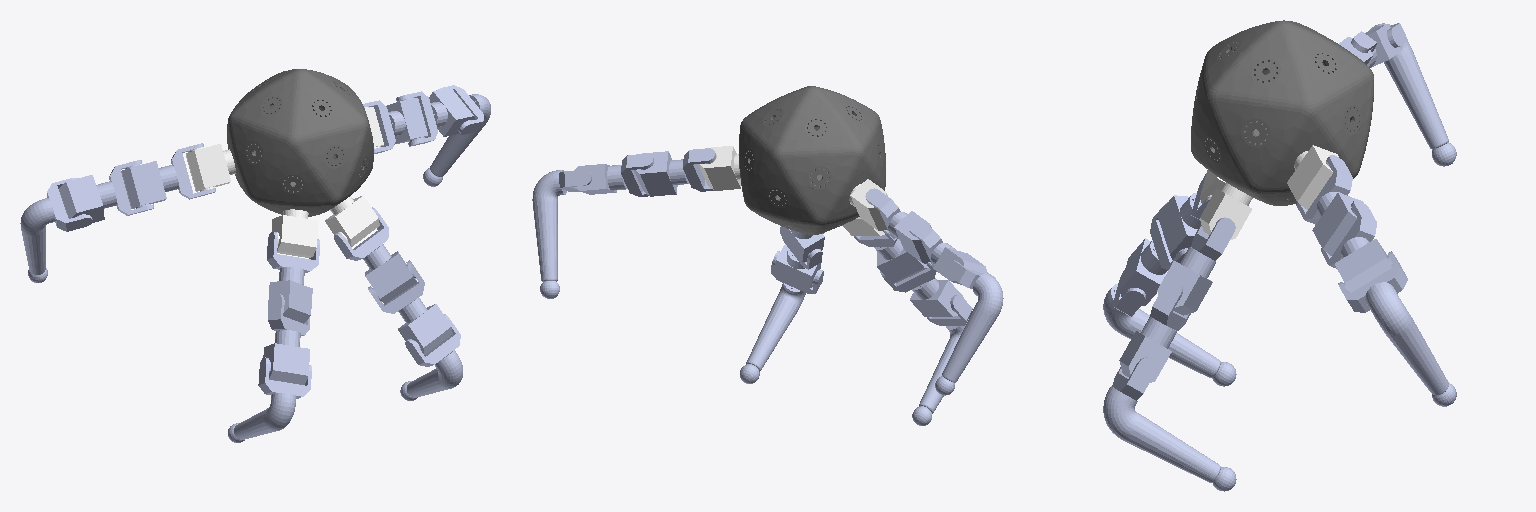
robot.urdf — mod_test:
<?xml version="1.0" encoding="utf-8"?>
<robot
  name="mod_test">
  <link
    name="base_link">
    <inertial>
      <origin
        xyz="-1.5226495220944E-06 1.5812928362389E-07 -5.05247252856584E-07"
        rpy="0 0 0" />
      <mass
        value="0.422806992949252" />
      <inertia
        ixx="0.00237499139253511"
        ixy="1.5717831530364E-08"
        ixz="1.49286265366169E-08"
        iyy="0.00237502154661776"
        iyz="-2.02154172619351E-08"
        izz="0.00237502595466009" />
    </inertial>
    <visual>
      <origin
        xyz="0 0 0"
        rpy="0 0 0" />
      <geometry>
        <mesh
          filename="package://meshes/base_link.STL" />
      </geometry>
      <material
        name="">
        <color
          rgba="0.498039215686275 0.498039215686275 0.498039215686275 1" />
      </material>
    </visual>
    <collision>
      <origin
        xyz="0 0 0"
        rpy="0 0 0" />
      <geometry>
        <mesh
          filename="package://meshes/base_link.STL" />
      </geometry>
    </collision>
  </link>
  <link
   name="150">
   <inertial>
      <origin
        xyz="0 0 0.028508"
        rpy="0 0 0" />
      <mass
        value="0.076173" />
      <inertia
        ixx="3.054E-05"
        ixy="-0.000000"
        ixz="0.000000"
        iyy="2.1077E-05"
        iyz="-0.000000"
        izz="2.1165E-05" />
    </inertial>
    <visual>
      <origin
        xyz="0 0 0"
        rpy="0 0 0" />
      <geometry>
        <mesh
          filename="package://meshes/1.STL" />
      </geometry>
      <material
        name="">
        <color
          rgba="1 1 1 1" />
      </material>
    </visual>
    <collision>
      <origin
        xyz="0 0 0"
        rpy="0 0 0" />
      <geometry>
        <mesh
          filename="package://meshes/1.STL" />
      </geometry>
    </collision>
  </link>
  <joint
    name="body_150"
    type="fixed">
    <origin
        xyz="0.031905 -0.043913 -0.071046"
        rpy="2.776697 0.553612 1.570780" />
    <parent
      link="base_link" />
    <child
      link="150" />
    <axis
      xyz="0 0 0" />
  </joint>
  <link
    name="151">
    <inertial>
      <origin
        xyz="0.060018 -1.4108E-06 1.4108E-06"
        rpy="0 0 0" />
    <mass
        value="0.10689" />
      <inertia
        ixx="3.2684e-05"
        ixy="-2.5662e-09"
        ixz="2.5662e-09"
        iyy="9.1229e-05"
        iyz="4.0975e-06"
        izz="7.7485e-05" />
    </inertial>
    <visual>
      <origin
        xyz="0 0 0"
        rpy="0 0 0" />
      <geometry>
        <mesh
          filename="package://meshes/module1.STL" />
      </geometry>
      <material
        name="">
        <color
          rgba="0.79216 0.81961 0.93333 1" />
      </material>
    </visual>
    <collision>
      <origin
        xyz="0 0 0"
        rpy="0 0 0" />
      <geometry>
        <mesh
          filename="package://meshes/module1.STL" />
      </geometry>
    </collision>
  </link>
  <joint
    name="150_151"
    type="revolute">
    <origin
      xyz="0 0 0.04"
      rpy="-1.558 -1.5708 -0.012835" />
    <parent
      link="150" />
    <child
      link="151" />
    <axis
      xyz="0 0 1" />
    <limit
      lower="-6.28"
      upper="6.28"
      effort="10"
      velocity="100" />
  </joint>
  <link
    name="152">
    <inertial>
      <origin
        xyz="0.060018 -1.4108E-06 1.4108E-06"
        rpy="0 0 0" />
    <mass
        value="0.10689" />
      <inertia
        ixx="3.2684e-05"
        ixy="-2.5662e-09"
        ixz="2.5662e-09"
        iyy="9.1229e-05"
        iyz="-4.0975e-06"
        izz="7.7485e-05" />
    </inertial>
    <visual>
      <origin
        xyz="0 0 0"
        rpy="0 0 0" />
      <geometry>
        <mesh
          filename="package://meshes/module5.STL" />
      </geometry>
      <material
        name="">
        <color
          rgba="0.79216 0.81961 0.93333 1" />
      </material>
    </visual>
    <collision>
      <origin
        xyz="0 0 0"
        rpy="0 0 0" />
      <geometry>
        <mesh
          filename="package://meshes/module5.STL" />
      </geometry>
    </collision>
  </link>
  <joint
    name="151_152"
    type="revolute">
    <origin
      xyz="0.0816 0 0"
      rpy="0.523599 0 0" />
    <parent
      link="151" />
    <child
      link="152" />
    <axis
      xyz="0 0 1" />
    <limit
      lower="-6.28"
      upper="6.28"
      effort="10"
      velocity="100" />
  </joint>
  <link
    name="153">
    <inertial>
      <origin
        xyz="0.051733 -0.042281 -1.3878E-17"
        rpy="0 0 0" />
    <mass
        value="0.12059" />
      <inertia
        ixx="0.00025425"
        ixy="4.8319E-05"
        ixz="0"
        iyy="5.0194E-05"
        iyz="-3.3141E-21"
        izz="0.00027482" />
    </inertial>
    <visual>
      <origin
        xyz="0 0 0"
        rpy="0 0 0" />
      <geometry>
        <mesh
          filename="package://meshes/leg.STL" />
      </geometry>
      <material
        name="">
        <color
          rgba="0.79216 0.81961 0.93333 1" />
      </material>
    </visual>
    <collision>
      <origin
        xyz="0 0 0"
        rpy="0 0 0" />
      <geometry>
        <mesh
          filename="package://meshes/leg.STL" />
      </geometry>
    </collision>
  </link>
  <joint
    name="152_153"
    type="revolute">
    <origin
      xyz="0.0816 0 0"
      rpy="2.617994 0 0" />
    <parent
      link="152" />
    <child
      link="153" />
    <axis
      xyz="0 0 1" />
    <limit
      lower="-6.28"
      upper="6.28"
      effort="10"
      velocity="100" />
  </joint>
  <link
   name="110">
   <inertial>
      <origin
        xyz="0 0 0.028508"
        rpy="0 0 0" />
      <mass
        value="0.076173" />
      <inertia
        ixx="3.054E-05"
        ixy="0.000000"
        ixz="-0.000000"
        iyy="2.1077E-05"
        iyz="-0.000000"
        izz="2.1165E-05" />
    </inertial>
    <visual>
      <origin
        xyz="0 0 0"
        rpy="0 0 0" />
      <geometry>
        <mesh
          filename="package://meshes/1.STL" />
      </geometry>
      <material
        name="">
        <color
          rgba="1 1 1 1" />
      </material>
    </visual>
    <collision>
      <origin
        xyz="0 0 0"
        rpy="0 0 0" />
      <geometry>
        <mesh
          filename="package://meshes/1.STL" />
      </geometry>
    </collision>
  </link>
  <joint
    name="body_110"
    type="fixed">
    <origin
        xyz="0.083523 0.027138 -0.016769"
        rpy="-1.787804 -0.513383 -1.148774" />
    <parent
      link="base_link" />
    <child
      link="110" />
    <axis
      xyz="0 0 0" />
  </joint>
  <link
    name="111">
    <inertial>
      <origin
        xyz="0.060018 -1.4108E-06 1.4108E-06"
        rpy="0 0 0" />
    <mass
        value="0.10689" />
      <inertia
        ixx="3.2684e-05"
        ixy="-2.5662e-09"
        ixz="2.5662e-09"
        iyy="9.3595e-05"
        iyz="-2.1275e-13"
        izz="7.512e-05" />
    </inertial>
    <visual>
      <origin
        xyz="0 0 0"
        rpy="0 0 0" />
      <geometry>
        <mesh
          filename="package://meshes/module0.STL" />
      </geometry>
      <material
        name="">
        <color
          rgba="0.79216 0.81961 0.93333 1" />
      </material>
    </visual>
    <collision>
      <origin
        xyz="0 0 0"
        rpy="0 0 0" />
      <geometry>
        <mesh
          filename="package://meshes/module0.STL" />
      </geometry>
    </collision>
  </link>
  <joint
    name="110_111"
    type="revolute">
    <origin
      xyz="0 0 0.04"
      rpy="-1.558 -1.5708 -0.012835" />
    <parent
      link="110" />
    <child
      link="111" />
    <axis
      xyz="0 0 1" />
    <limit
      lower="-6.28"
      upper="6.28"
      effort="10"
      velocity="100" />
  </joint>
  <link
    name="112">
    <inertial>
      <origin
        xyz="0.060018 -1.4108E-06 1.4108E-06"
        rpy="0 0 0" />
    <mass
        value="0.10689" />
      <inertia
        ixx="3.2684e-05"
        ixy="-2.5662e-09"
        ixz="2.5662e-09"
        iyy="9.1229e-05"
        iyz="-4.0975e-06"
        izz="7.7485e-05" />
    </inertial>
    <visual>
      <origin
        xyz="0 0 0"
        rpy="0 0 0" />
      <geometry>
        <mesh
          filename="package://meshes/module11.STL" />
      </geometry>
      <material
        name="">
        <color
          rgba="0.79216 0.81961 0.93333 1" />
      </material>
    </visual>
    <collision>
      <origin
        xyz="0 0 0"
        rpy="0 0 0" />
      <geometry>
        <mesh
          filename="package://meshes/module11.STL" />
      </geometry>
    </collision>
  </link>
  <joint
    name="111_112"
    type="revolute">
    <origin
      xyz="0.0816 0 0"
      rpy="0.000000 0 0" />
    <parent
      link="111" />
    <child
      link="112" />
    <axis
      xyz="0 0 1" />
    <limit
      lower="-6.28"
      upper="6.28"
      effort="10"
      velocity="100" />
  </joint>
  <link
    name="113">
    <inertial>
      <origin
        xyz="0.051733 -0.042281 -1.3878E-17"
        rpy="0 0 0" />
    <mass
        value="0.12059" />
      <inertia
        ixx="0.00025425"
        ixy="4.8319E-05"
        ixz="0"
        iyy="5.0194E-05"
        iyz="-3.3141E-21"
        izz="0.00027482" />
    </inertial>
    <visual>
      <origin
        xyz="0 0 0"
        rpy="0 0 0" />
      <geometry>
        <mesh
          filename="package://meshes/leg.STL" />
      </geometry>
      <material
        name="">
        <color
          rgba="0.79216 0.81961 0.93333 1" />
      </material>
    </visual>
    <collision>
      <origin
        xyz="0 0 0"
        rpy="0 0 0" />
      <geometry>
        <mesh
          filename="package://meshes/leg.STL" />
      </geometry>
    </collision>
  </link>
  <joint
    name="112_113"
    type="revolute">
    <origin
      xyz="0.0816 0 0"
      rpy="5.759587 0 0" />
    <parent
      link="112" />
    <child
      link="113" />
    <axis
      xyz="0 0 1" />
    <limit
      lower="-6.28"
      upper="6.28"
      effort="10"
      velocity="100" />
  </joint>
  <link
   name="130">
   <inertial>
      <origin
        xyz="0 0 0.028508"
        rpy="0 0 0" />
      <mass
        value="0.076173" />
      <inertia
        ixx="3.054E-05"
        ixy="0.000000"
        ixz="-0.000000"
        iyy="2.1077E-05"
        iyz="0.000021"
        izz="2.1165E-05" />
    </inertial>
    <visual>
      <origin
        xyz="0 0 0"
        rpy="0 0 0" />
      <geometry>
        <mesh
          filename="package://meshes/1.STL" />
      </geometry>
      <material
        name="">
        <color
          rgba="1 1 1 1" />
      </material>
    </visual>
    <collision>
      <origin
        xyz="0 0 0"
        rpy="0 0 0" />
      <geometry>
        <mesh
          filename="package://meshes/1.STL" />
      </geometry>
    </collision>
  </link>
  <joint
    name="body_130"
    type="fixed">
    <origin
        xyz="-0.083523 0.027138 -0.016769"
        rpy="1.787804 -0.513383 -1.992819" />
    <parent
      link="base_link" />
    <child
      link="130" />
    <axis
      xyz="0 0 0" />
  </joint>
  <link
    name="131">
    <inertial>
      <origin
        xyz="0.060018 -1.4108E-06 1.4108E-06"
        rpy="0 0 0" />
    <mass
        value="0.10689" />
      <inertia
        ixx="3.2684e-05"
        ixy="-2.5662e-09"
        ixz="2.5662e-09"
        iyy="9.3595e-05"
        iyz="-2.1275e-13"
        izz="7.512e-05" />
    </inertial>
    <visual>
      <origin
        xyz="0 0 0"
        rpy="0 0 0" />
      <geometry>
        <mesh
          filename="package://meshes/module0.STL" />
      </geometry>
      <material
        name="">
        <color
          rgba="0.79216 0.81961 0.93333 1" />
      </material>
    </visual>
    <collision>
      <origin
        xyz="0 0 0"
        rpy="0 0 0" />
      <geometry>
        <mesh
          filename="package://meshes/module0.STL" />
      </geometry>
    </collision>
  </link>
  <joint
    name="130_131"
    type="revolute">
    <origin
      xyz="0 0 0.04"
      rpy="-1.558 -1.5708 -0.012835" />
    <parent
      link="130" />
    <child
      link="131" />
    <axis
      xyz="0 0 1" />
    <limit
      lower="-6.28"
      upper="6.28"
      effort="10"
      velocity="100" />
  </joint>
  <link
    name="132">
    <inertial>
      <origin
        xyz="0.060018 -1.4108E-06 1.4108E-06"
        rpy="0 0 0" />
    <mass
        value="0.10689" />
      <inertia
        ixx="3.2684e-05"
        ixy="-2.5662e-09"
        ixz="2.5662e-09"
        iyy="9.1229e-05"
        iyz="4.0975e-06"
        izz="7.7485e-05" />
    </inertial>
    <visual>
      <origin
        xyz="0 0 0"
        rpy="0 0 0" />
      <geometry>
        <mesh
          filename="package://meshes/module1.STL" />
      </geometry>
      <material
        name="">
        <color
          rgba="0.79216 0.81961 0.93333 1" />
      </material>
    </visual>
    <collision>
      <origin
        xyz="0 0 0"
        rpy="0 0 0" />
      <geometry>
        <mesh
          filename="package://meshes/module1.STL" />
      </geometry>
    </collision>
  </link>
  <joint
    name="131_132"
    type="revolute">
    <origin
      xyz="0.0816 0 0"
      rpy="0.000000 0 0" />
    <parent
      link="131" />
    <child
      link="132" />
    <axis
      xyz="0 0 1" />
    <limit
      lower="-6.28"
      upper="6.28"
      effort="10"
      velocity="100" />
  </joint>
  <link
    name="133">
    <inertial>
      <origin
        xyz="0.051733 -0.042281 -1.3878E-17"
        rpy="0 0 0" />
    <mass
        value="0.12059" />
      <inertia
        ixx="0.00025425"
        ixy="4.8319E-05"
        ixz="0"
        iyy="5.0194E-05"
        iyz="-3.3141E-21"
        izz="0.00027482" />
    </inertial>
    <visual>
      <origin
        xyz="0 0 0"
        rpy="0 0 0" />
      <geometry>
        <mesh
          filename="package://meshes/leg.STL" />
      </geometry>
      <material
        name="">
        <color
          rgba="0.79216 0.81961 0.93333 1" />
      </material>
    </visual>
    <collision>
      <origin
        xyz="0 0 0"
        rpy="0 0 0" />
      <geometry>
        <mesh
          filename="package://meshes/leg.STL" />
      </geometry>
    </collision>
  </link>
  <joint
    name="132_133"
    type="revolute">
    <origin
      xyz="0.0816 0 0"
      rpy="0.523599 0 0" />
    <parent
      link="132" />
    <child
      link="133" />
    <axis
      xyz="0 0 1" />
    <limit
      lower="-6.28"
      upper="6.28"
      effort="10"
      velocity="100" />
  </joint>
  <link
   name="190">
   <inertial>
      <origin
        xyz="0 0 0.028508"
        rpy="0 0 0" />
      <mass
        value="0.076173" />
      <inertia
        ixx="3.054E-05"
        ixy="-0.000000"
        ixz="-0.000000"
        iyy="2.1077E-05"
        iyz="-0.000000"
        izz="2.1165E-05" />
    </inertial>
    <visual>
      <origin
        xyz="0 0 0"
        rpy="0 0 0" />
      <geometry>
        <mesh
          filename="package://meshes/1.STL" />
      </geometry>
      <material
        name="">
        <color
          rgba="1 1 1 1" />
      </material>
    </visual>
    <collision>
      <origin
        xyz="0 0 0"
        rpy="0 0 0" />
      <geometry>
        <mesh
          filename="package://meshes/1.STL" />
      </geometry>
    </collision>
  </link>
  <joint
    name="body_190"
    type="fixed">
    <origin
        xyz="-0.031905 -0.043913 -0.071046"
        rpy="-2.776697 0.553612 1.570813" />
    <parent
      link="base_link" />
    <child
      link="190" />
    <axis
      xyz="0 0 0" />
  </joint>
  <link
    name="191">
    <inertial>
      <origin
        xyz="0.060018 -1.4108E-06 1.4108E-06"
        rpy="0 0 0" />
    <mass
        value="0.10689" />
      <inertia
        ixx="3.2684e-05"
        ixy="-2.5662e-09"
        ixz="2.5662e-09"
        iyy="9.1229e-05"
        iyz="-4.0975e-06"
        izz="7.7485e-05" />
    </inertial>
    <visual>
      <origin
        xyz="0 0 0"
        rpy="0 0 0" />
      <geometry>
        <mesh
          filename="package://meshes/module11.STL" />
      </geometry>
      <material
        name="">
        <color
          rgba="0.79216 0.81961 0.93333 1" />
      </material>
    </visual>
    <collision>
      <origin
        xyz="0 0 0"
        rpy="0 0 0" />
      <geometry>
        <mesh
          filename="package://meshes/module11.STL" />
      </geometry>
    </collision>
  </link>
  <joint
    name="190_191"
    type="revolute">
    <origin
      xyz="0 0 0.04"
      rpy="-1.558 -1.5708 -0.012835" />
    <parent
      link="190" />
    <child
      link="191" />
    <axis
      xyz="0 0 1" />
    <limit
      lower="-6.28"
      upper="6.28"
      effort="10"
      velocity="100" />
  </joint>
  <link
    name="192">
    <inertial>
      <origin
        xyz="0.060018 -1.4108E-06 1.4108E-06"
        rpy="0 0 0" />
    <mass
        value="0.10689" />
      <inertia
        ixx="3.2684e-05"
        ixy="-2.5662e-09"
        ixz="2.5662e-09"
        iyy="9.1229e-05"
        iyz="4.0975e-06"
        izz="7.7485e-05" />
    </inertial>
    <visual>
      <origin
        xyz="0 0 0"
        rpy="0 0 0" />
      <geometry>
        <mesh
          filename="package://meshes/module7.STL" />
      </geometry>
      <material
        name="">
        <color
          rgba="0.79216 0.81961 0.93333 1" />
      </material>
    </visual>
    <collision>
      <origin
        xyz="0 0 0"
        rpy="0 0 0" />
      <geometry>
        <mesh
          filename="package://meshes/module7.STL" />
      </geometry>
    </collision>
  </link>
  <joint
    name="191_192"
    type="revolute">
    <origin
      xyz="0.0816 0 0"
      rpy="5.759587 0 0" />
    <parent
      link="191" />
    <child
      link="192" />
    <axis
      xyz="0 0 1" />
    <limit
      lower="-6.28"
      upper="6.28"
      effort="10"
      velocity="100" />
  </joint>
  <link
    name="193">
    <inertial>
      <origin
        xyz="0.051733 -0.042281 -1.3878E-17"
        rpy="0 0 0" />
    <mass
        value="0.12059" />
      <inertia
        ixx="0.00025425"
        ixy="4.8319E-05"
        ixz="0"
        iyy="5.0194E-05"
        iyz="-3.3141E-21"
        izz="0.00027482" />
    </inertial>
    <visual>
      <origin
        xyz="0 0 0"
        rpy="0 0 0" />
      <geometry>
        <mesh
          filename="package://meshes/leg.STL" />
      </geometry>
      <material
        name="">
        <color
          rgba="0.79216 0.81961 0.93333 1" />
      </material>
    </visual>
    <collision>
      <origin
        xyz="0 0 0"
        rpy="0 0 0" />
      <geometry>
        <mesh
          filename="package://meshes/leg.STL" />
      </geometry>
    </collision>
  </link>
  <joint
    name="192_193"
    type="revolute">
    <origin
      xyz="0.0816 0 0"
      rpy="3.665191 0 0" />
    <parent
      link="192" />
    <child
      link="193" />
    <axis
      xyz="0 0 1" />
    <limit
      lower="-6.28"
      upper="6.28"
      effort="10"
      velocity="100" />
  </joint>
  <link
    name = "ball_1">
    <inertial>
    <origin
        xyz="0 0 0"
        rpy="0 0 0" />
    <mass
        value="0" />
      <inertia
        ixx="0"
        ixy="0"
        ixz="0"
        iyy="0"
        iyz="0"
        izz="0" />
    </inertial>    <visual>
      <origin
        xyz="0 0 0"
        rpy="0 0 0" />
     <geometry>
        <sphere radius = "0.01"/>
      </geometry>
      <material
        name="green">
        <color
          rgba="0.22 1 0.4 1" />
      </material>
    </visual>
  </link>
  <joint
  name="153_ball1"
  type="fixed">
    <origin
      xyz="0.0612 -0.13431 0"
      rpy="0 0 0" />
    <parent
      link="153" />
    <child
      link="ball_1" />
    <axis
      xyz="0 0 0" />
  </joint>
  <link
    name = "ball_2">
    <inertial>
    <origin
        xyz="0 0 0"
        rpy="0 0 0" />
    <mass
        value="0" />
      <inertia
        ixx="0"
        ixy="0"
        ixz="0"
        iyy="0"
        iyz="0"
        izz="0" />
    </inertial>    <visual>
      <origin
        xyz="0 0 0"
        rpy="0 0 0" />
      <geometry>
        <sphere radius = "0.01"/>
      </geometry>
      <material
        name="blue">
        <color
          rgba="0.16 0.52 0.8 1" />
      </material>
    </visual>
  </link>
  <joint
  name="113_ball2"
  type="fixed">
    <origin
      xyz="0.0612 -0.13431 0"
      rpy="0 0 0" />
    <parent
      link="113" />
    <child
      link="ball_2" />
    <axis
      xyz="0 0 0" />
  </joint>
  <link
    name = "ball_3">
    <inertial>
    <origin
        xyz="0 0 0"
        rpy="0 0 0" />
    <mass
        value="0" />
      <inertia
        ixx="0"
        ixy="0"
        ixz="0"
        iyy="0"
        iyz="0"
        izz="0" />
    </inertial>    <visual>
      <origin
        xyz="0 0 0"
        rpy="0 0 0" />
     <geometry>
        <sphere radius = "0.01"/>
      </geometry>
      <material
        name="blue">
        <color
          rgba="0.16 0.52 0.8 1" />
      </material>
    </visual>
  </link>
  <joint
  name="133_ball3"
  type="fixed">
    <origin
      xyz="0.0612 -0.13431 0"
      rpy="0 0 0" />
    <parent
      link="133" />
    <child
      link="ball_3" />
    <axis
      xyz="0 0 0" />
  </joint>
  <link
    name = "ball_4">
    <inertial>
    <origin
        xyz="0 0 0"
        rpy="0 0 0" />
    <mass
        value="0" />
      <inertia
        ixx="0"
        ixy="0"
        ixz="0"
        iyy="0"
        iyz="0"
        izz="0" />
    </inertial>    <visual>
      <origin
        xyz="0 0 0"
        rpy="0 0 0" />
      <geometry>
        <sphere radius = "0.01"/>
      </geometry>
      <material
        name="yellow">
        <color
          rgba="1 1 0 1" />
      </material>
    </visual>
  </link>
  <joint
  name="193_ball4"
  type="fixed">
    <origin
      xyz="0.0612 -0.13431 0"
      rpy="0 0 0" />
    <parent
      link="193" />
    <child
      link="ball_4" />
    <axis
      xyz="0 0 0" />
  </joint>
</robot>

--- What the picture shows (computed from the rendered views, not written in the file) ---
3 views of the same robot in one strip: view 1: azimuth 30°, elevation 25°; view 2: azimuth 150°, elevation 25°; view 3: azimuth 270°, elevation 25° (orthographic).
Model mod_test with 21 links and 20 joints (12 revolute, 8 fixed), rooted at base_link, posed all joints at 0.
Links seen in each view (by area): view 1: base_link, 151, 133, 192, 152, 131, 132, 193, 191, 153, 113, 112 (+4 smaller); view 2: base_link, 133, 113, 153, 111, 192, 193, 112, 131, 191, 132, 110 (+3 smaller); view 3: base_link, 153, 113, 133, 193, 112, 151, 152, 111, 192, 191, 110 (+2 smaller).
Link boxes in pixels (left/top/right/bottom): base_link: left=227, top=69, right=373, bottom=216; 151: left=334, top=207, right=416, bottom=303; 133: left=20, top=178, right=92, bottom=282; 192: left=263, top=293, right=309, bottom=384; 152: left=368, top=260, right=452, bottom=355; 131: left=121, top=143, right=215, bottom=208; 132: left=59, top=160, right=153, bottom=222; 193: left=228, top=357, right=311, bottom=442; 191: left=267, top=232, right=319, bottom=323; 153: left=400, top=314, right=462, bottom=400; 113: left=423, top=85, right=490, bottom=186; 112: left=396, top=88, right=474, bottom=146; base_link: left=739, top=86, right=885, bottom=234; 133: left=935, top=259, right=1003, bottom=395; 113: left=532, top=170, right=591, bottom=298; 153: left=740, top=251, right=823, bottom=383; 111: left=634, top=148, right=715, bottom=196; 192: left=880, top=263, right=963, bottom=316; 193: left=912, top=295, right=972, bottom=425; 112: left=574, top=154, right=653, bottom=196; 131: left=865, top=188, right=931, bottom=262; 191: left=854, top=231, right=928, bottom=283; 132: left=908, top=219, right=986, bottom=284; 110: left=698, top=146, right=740, bottom=190; base_link: left=1191, top=20, right=1373, bottom=205; 153: left=1103, top=357, right=1236, bottom=491; 113: left=1338, top=251, right=1456, bottom=406; 133: left=1369, top=23, right=1456, bottom=166; 193: left=1103, top=268, right=1236, bottom=386; 112: left=1321, top=200, right=1393, bottom=293; 151: left=1157, top=218, right=1235, bottom=315; 152: left=1119, top=280, right=1190, bottom=382; 111: left=1296, top=155, right=1363, bottom=255; 192: left=1119, top=202, right=1187, bottom=305; 191: left=1157, top=174, right=1211, bottom=259; 110: left=1287, top=145, right=1338, bottom=209.
Size in the robot's own frame: 0.6825 by 0.3596 by 0.4667 metres.
17 mesh visuals loaded from 8 distinct referenced files (8 binary STL).